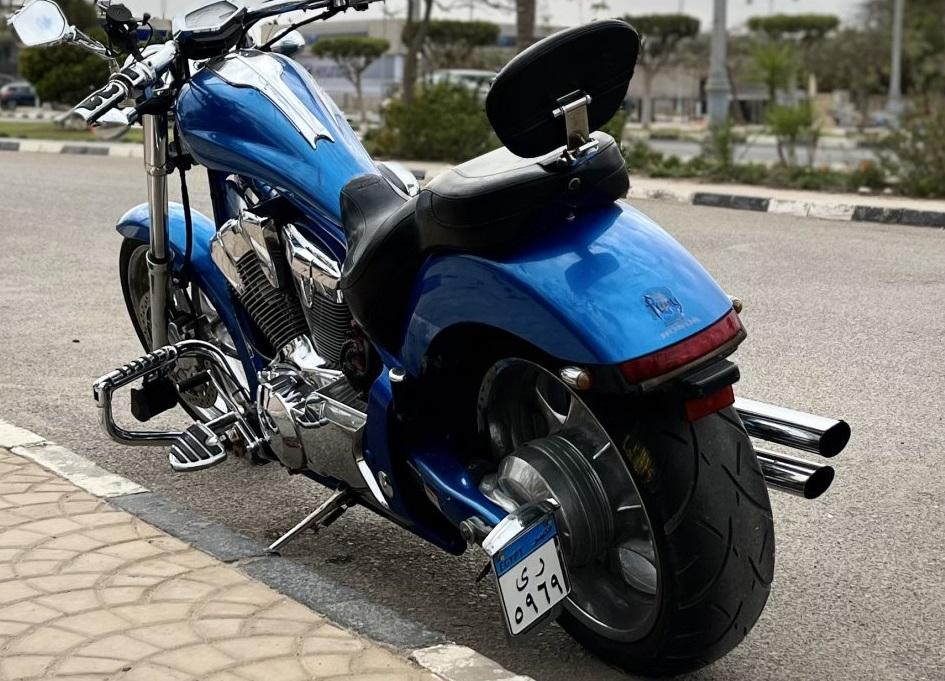License Plate: (492, 516, 575, 637)
